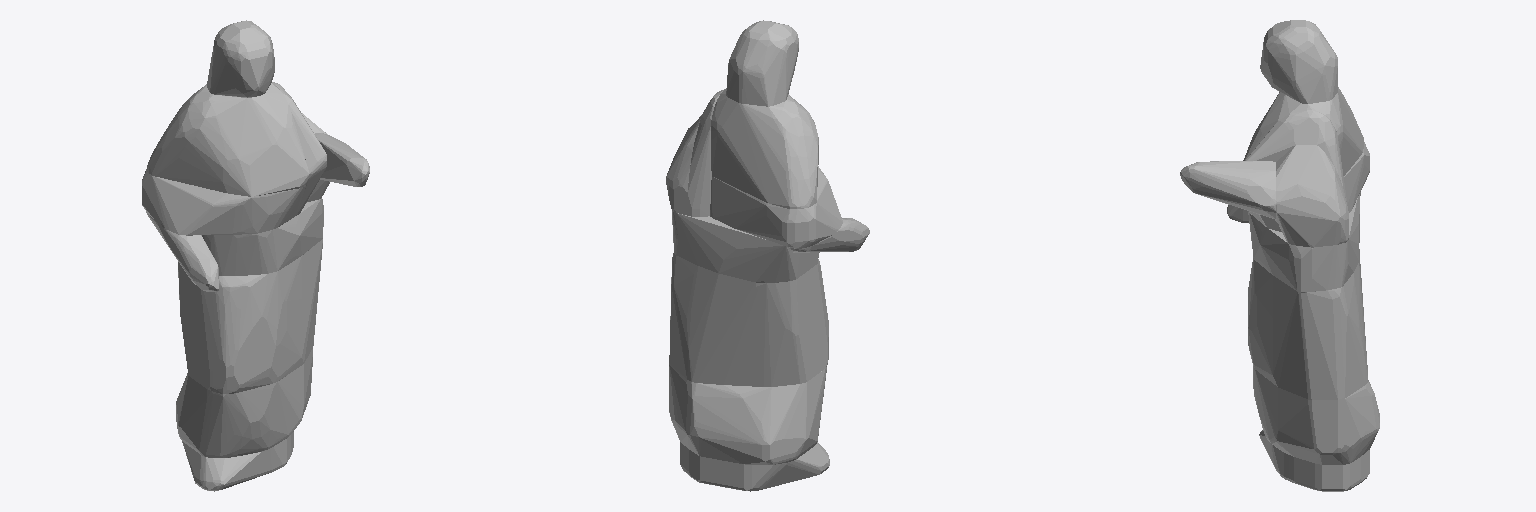
robot.urdf — root:
<?xml version="1.0"?>
<robot name="root">
  <link name="base_link">
    <visual>
      <origin xyz="0 0 0" rpy="0 0 0" />
      <geometry>
        <mesh filename="../meshes/unidex_sem_PersonStanding-14e3023f03787b204a736b2733b8d89e_008.obj" scale="1.0000E+00 1.0000E+00 1.0000E+00" />
      </geometry>
      <material name="">
        <color rgba="7.50E-01 7.50E-01 7.50E-01 1" />
      </material>
    </visual>
    <collision>
      <origin xyz="0 0 0" rpy="0 0 0" />
      <geometry>
        <mesh filename="../meshes/unidex_sem_PersonStanding-14e3023f03787b204a736b2733b8d89e_008.obj" scale="1.0000E+00 1.0000E+00 1.0000E+00" />
      </geometry>
    </collision>
  </link>
</robot>

--- Facts derived from the render (not from the file) ---
The picture shows the robot from 3 angles, left to right: view 1: azimuth 30°, elevation 25°; view 2: azimuth 150°, elevation 25°; view 3: azimuth 270°, elevation 25°; orthographic projection.
Model root with 1 links and 0 joints (none), rooted at base_link, posed every joint at zero.
Links seen in each view (by area): view 1: base_link; view 2: base_link; view 3: base_link.
Boxes of the visible links, bbox=[...] form: base_link: bbox=[142, 20, 369, 491]; base_link: bbox=[666, 20, 869, 491]; base_link: bbox=[1180, 20, 1379, 491].
Bounding box of the posed robot: 0.0575 × 0.0606 × 0.1468 m (x, y, z).
Meshes: 1 distinct files referenced, 1 mesh visuals loaded (1 OBJ).
